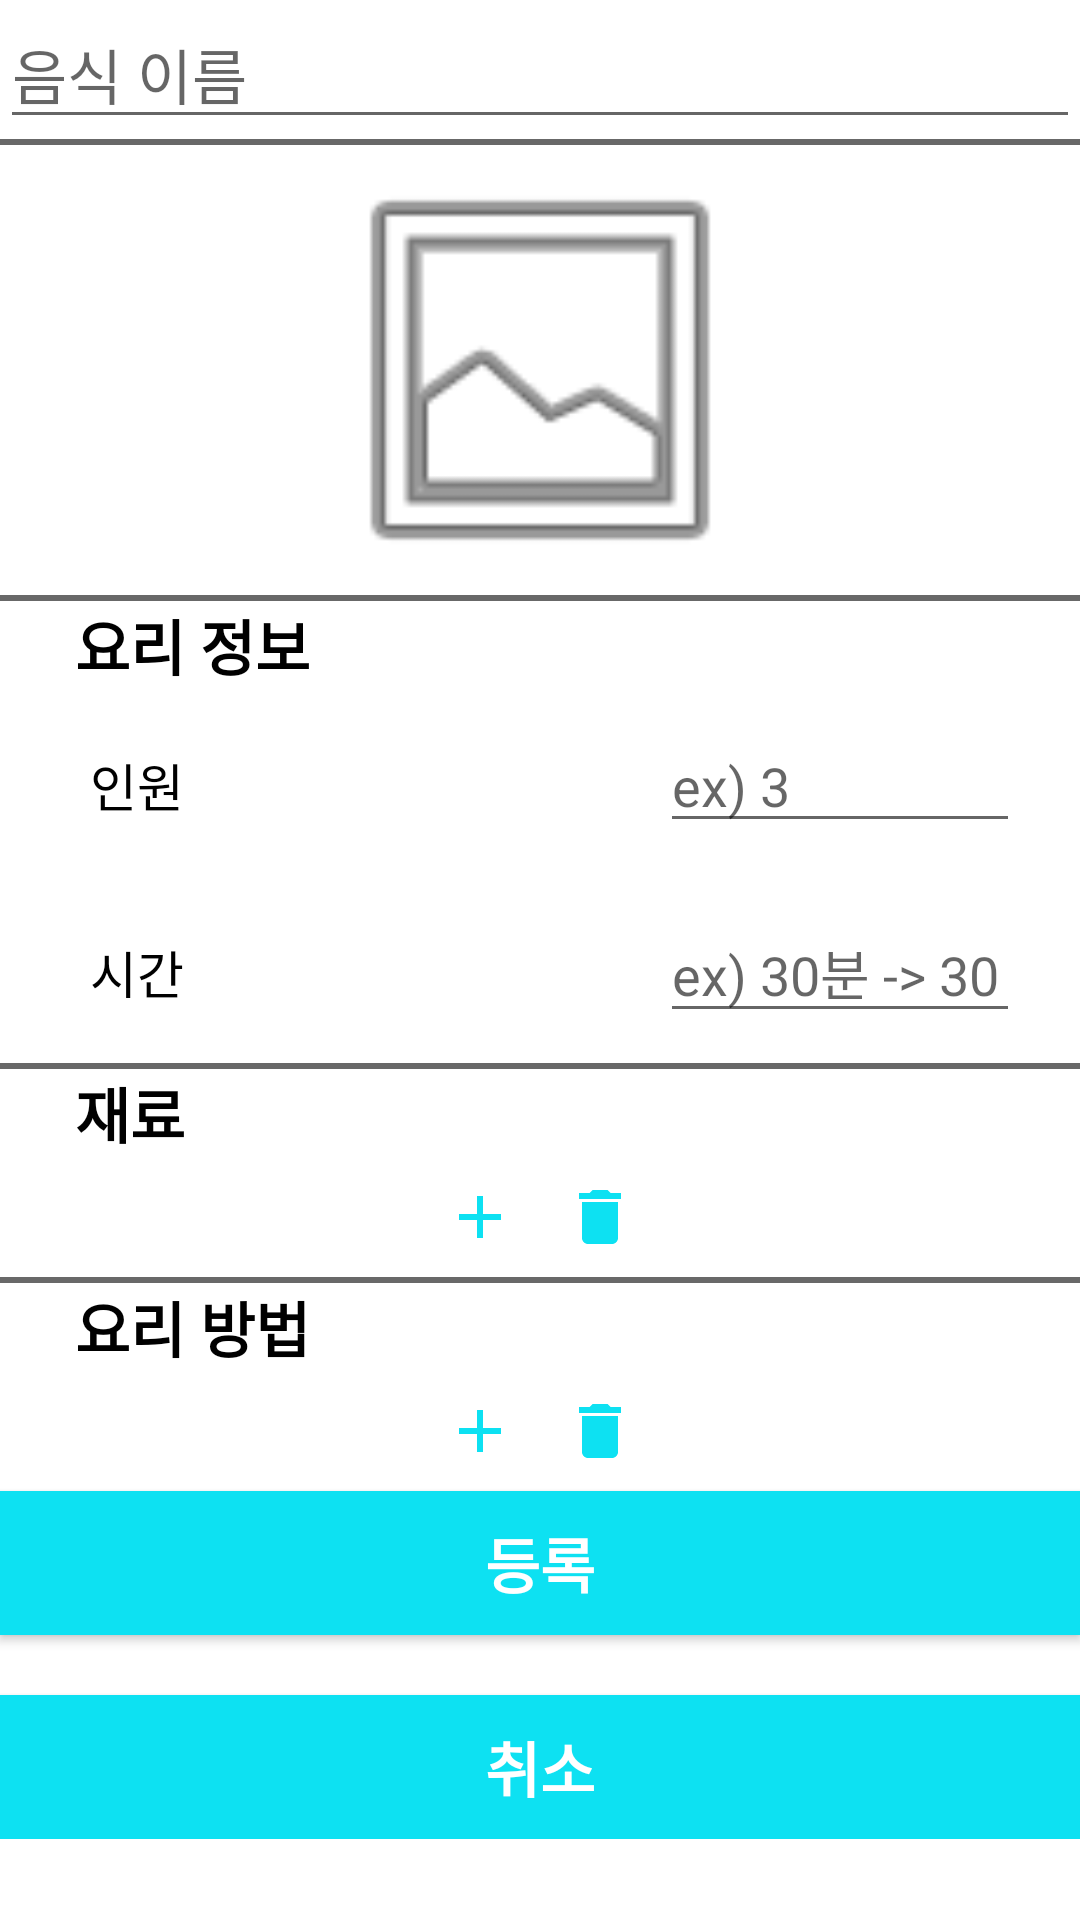

Named icons in this screenshot (1080 × 1920) and their bounding boxes, box=[x1, y1, x2, y2]:
add: box=[459, 1196, 501, 1238], box=[459, 1410, 501, 1452]
delete: box=[579, 1190, 621, 1244], box=[579, 1404, 621, 1458]
gallery: box=[370, 200, 710, 540]
